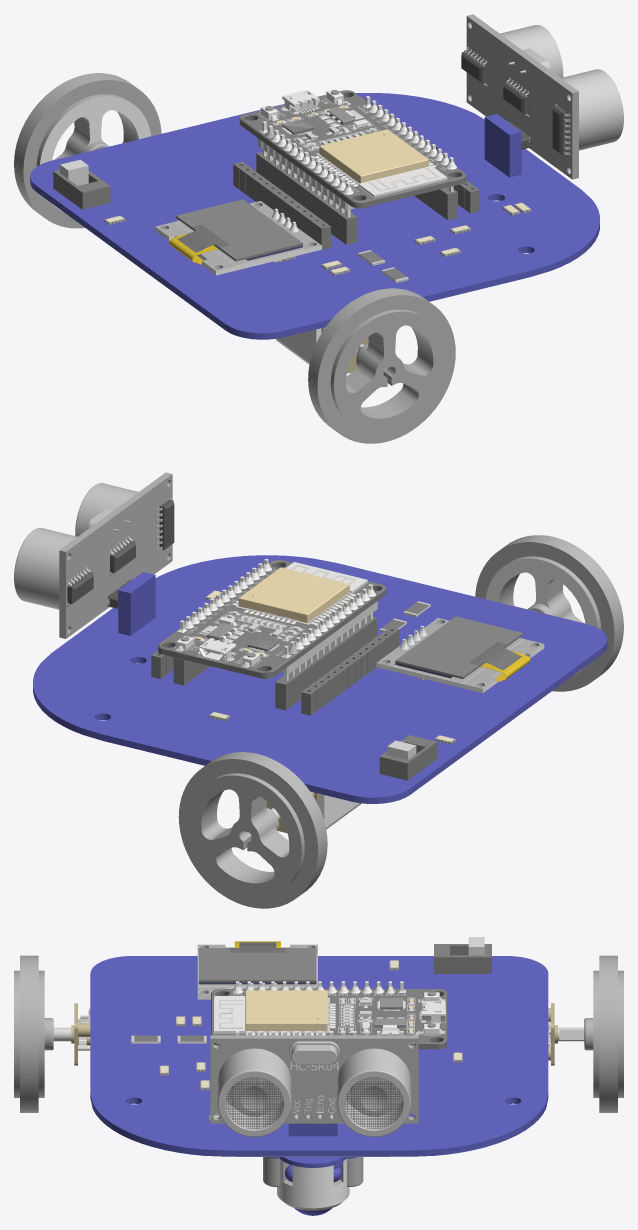
File: obocar.glb
The picture shows the model from 3 angles, top to bottom: view 1: azimuth 30°, elevation 25°; view 2: azimuth 150°, elevation 25°; view 3: azimuth 270°, elevation 25°; orthographic projection. The views are drawn at different scales.
Visible parts, largest first — view 1: Body41, Body1 (×5), Body222, Body196, Body55, Body34, Body35 (×2), Body37, Body42, Body118, Body38, Body52 (+1 smaller); view 2: Body41, Body1 (×5), Body222, Body35 (×2), Body196, Body55, Body37, Body42, Body34, Body52, Body118, Body36 (+1 smaller); view 3: Body41, Body1 (×9), Body35 (×2), Body34, Body55 (×2), Body222, Body196, Body58, Body57, Body3, Body118, Body53 (+5 smaller).
Boxes of the visible parts, x1,y1,x2,y2 form: Body41: (30, 93, 599, 339); Body1 (×5): (14, 14, 578, 443); Body222: (239, 90, 466, 208); Body196: (319, 129, 428, 183); Body55: (188, 199, 302, 256); Body34: (561, 69, 623, 150); Body35 (×2): (53, 25, 563, 209); Body37: (256, 152, 357, 244); Body42: (484, 114, 521, 177); Body118: (358, 166, 447, 196); Body38: (414, 187, 457, 220); Body52: (176, 213, 302, 261); Body41: (33, 555, 607, 803); Body1 (×5): (59, 472, 623, 908); Body222: (158, 560, 386, 678); Body35 (×2): (14, 528, 437, 780); Body196: (238, 567, 349, 623); Body55: (396, 616, 510, 673); Body37: (275, 616, 376, 710); Body42: (118, 572, 155, 635); Body34: (75, 483, 138, 536); Body52: (395, 630, 523, 678); Body118: (285, 562, 367, 593); Body36: (159, 499, 174, 549); Body41: (90, 956, 548, 1156); Body1 (×9): (14, 944, 623, 1210); Body35 (×2): (337, 944, 491, 1136); Body34: (217, 1048, 291, 1136); Body55 (×2): (198, 953, 316, 1112); Body222: (211, 989, 446, 1049); Body196: (245, 990, 327, 1031); Body58: (345, 1077, 403, 1128); Body57: (226, 1077, 283, 1128); Body3: (289, 1041, 339, 1064); Body118: (214, 996, 245, 1032); Body53: (231, 1077, 277, 1116).
Bounding box in the file's own units: 0.1087 × 0.0491 × 0.1318.
